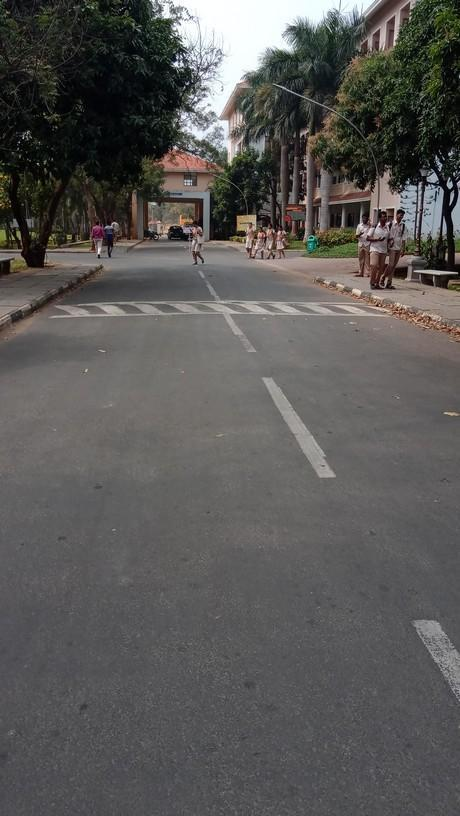speedbreaker: (43, 299, 389, 325)
